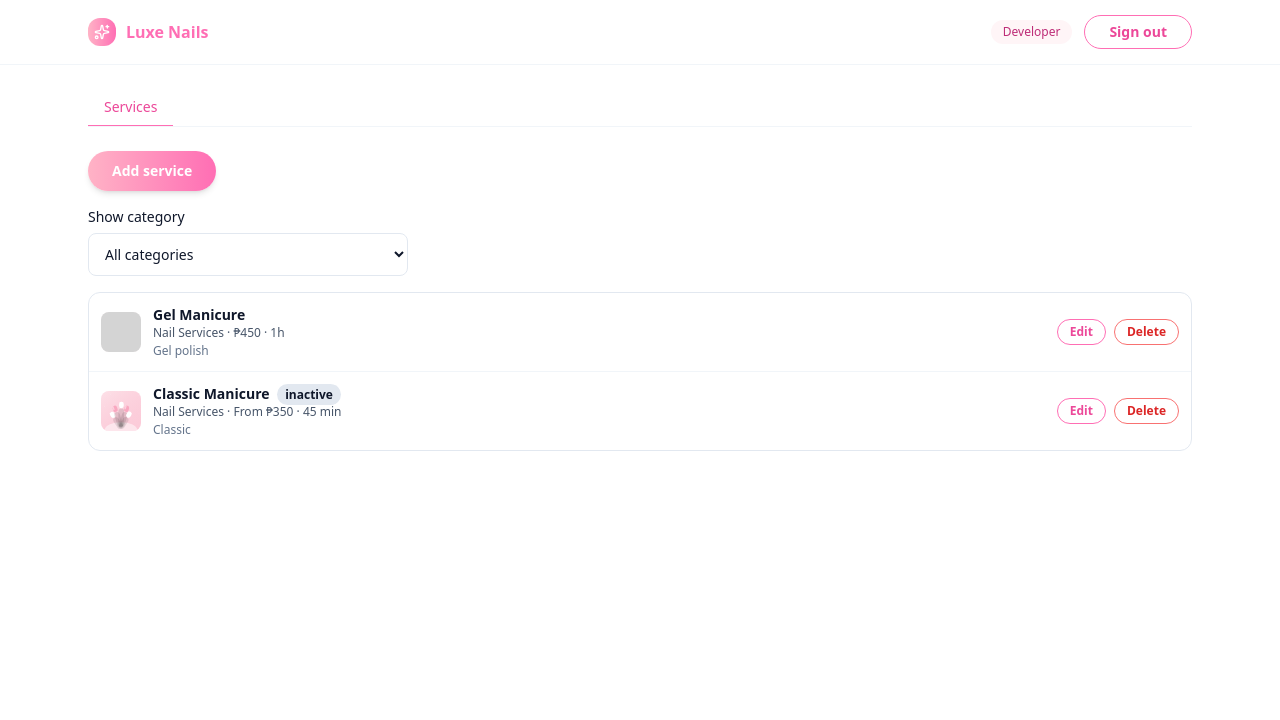
Add service › shows a file input that accepts images (phone: gallery or camera) and no image yet
This screenshot has width=1280, height=720.
Check: the tab "Services" is shown, box top-left (88, 89), bottom-right (173, 127)
Check: the text "Gel Manicure" is shown, box top-left (153, 305), bottom-right (245, 324)
Click the button "Add service" at {"x": 152, "y": 171}, box top-left (88, 151), bottom-right (216, 191)
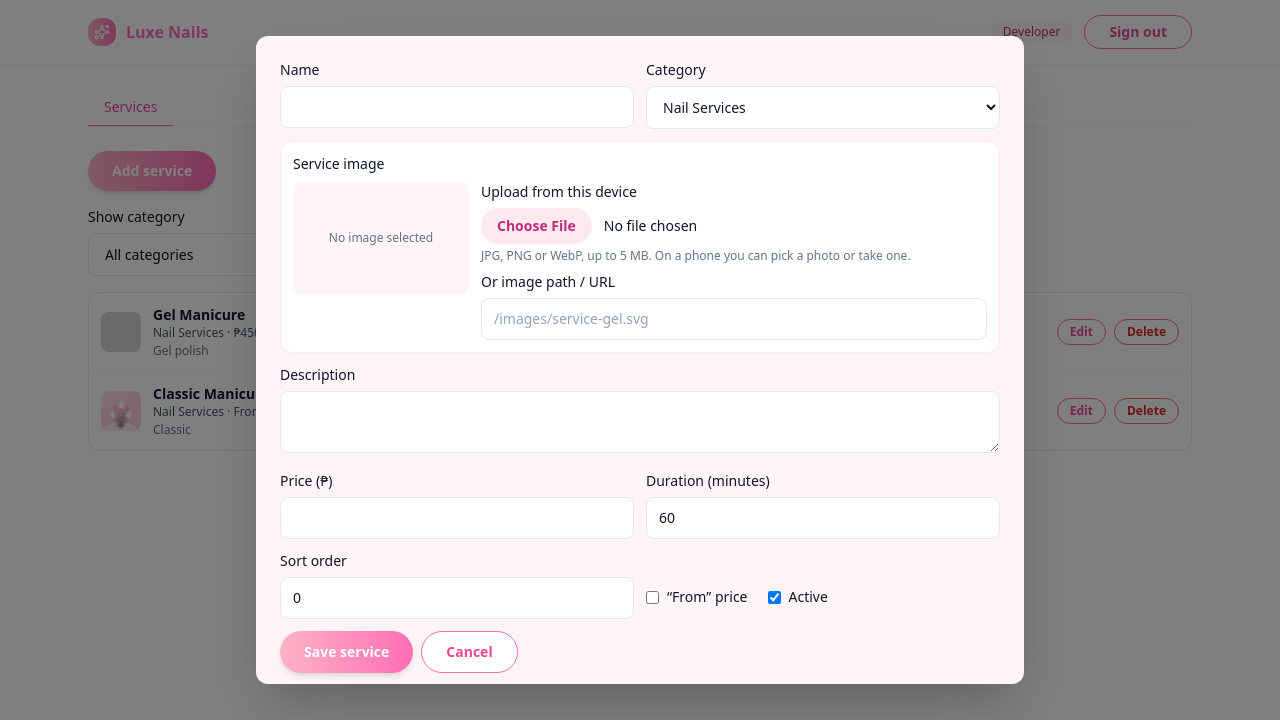
Check: the file field labelled "Upload from this device" is shown, box top-left (481, 208), bottom-right (987, 244)
Check: the text "No image selected" is shown, box top-left (321, 230), bottom-right (441, 246)
Check: the text "JPG, PNG or WebP, up to 5 MB" is shown, box top-left (481, 247), bottom-right (911, 264)
